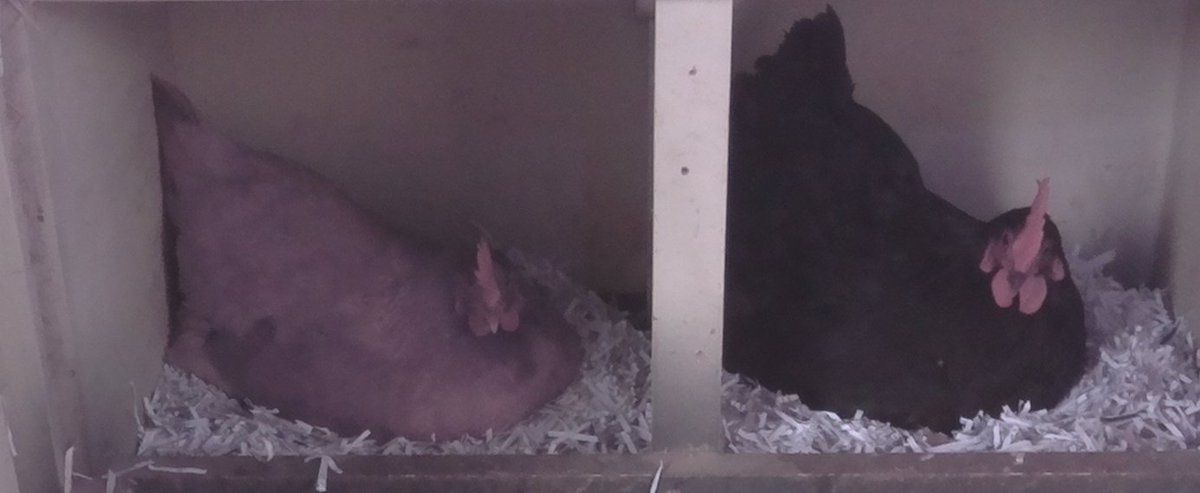hen: (141, 65, 580, 446), (733, 7, 1087, 432)
